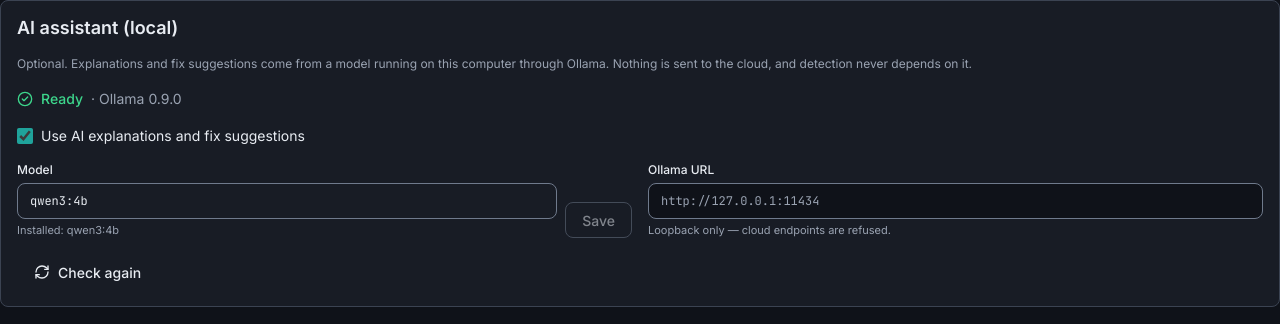
Test case: AiSettings › toggles AI and keeps the URL read-only (no cloud)
Click the checkbox labelled "Use AI explanations and fix suggestions" at [25, 136], box [17,128,33,144]
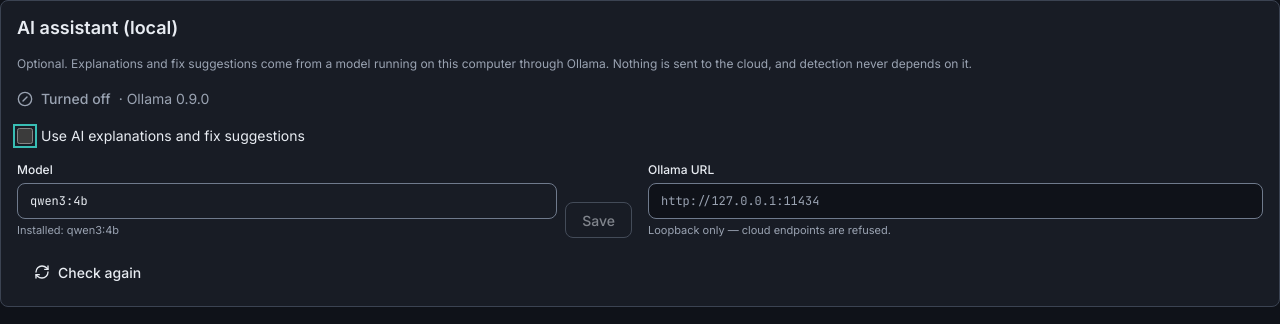
expect the message shows "Turned off": met, box [41,90,111,107]
